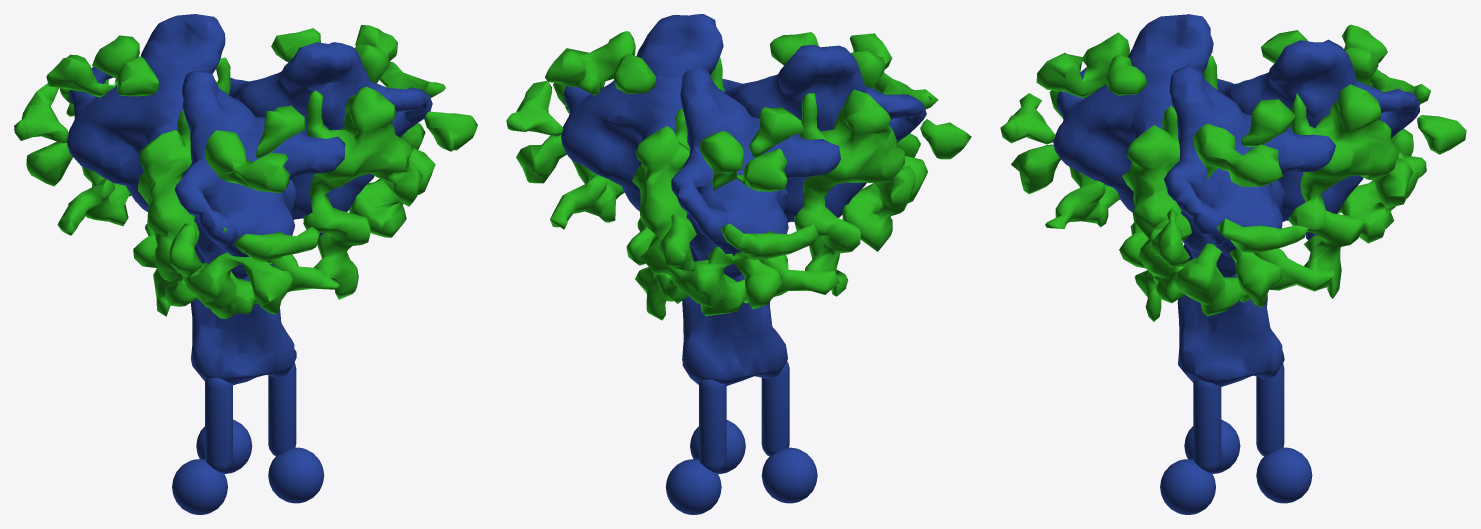
File: iSUTMorig.fbx
The picture shows the model from 3 angles, left to right: view 1: azimuth 30°, elevation 25°; view 2: azimuth 150°, elevation 25°; view 3: azimuth 270°, elevation 25°; orthographic projection.
Parts seen in each view (by area): view 1: CoarseMS_gfySugars1, CoarseMS_gfyProtOnly1, Capsule_0_1, CoarseMS_2x7rFit2ezo; view 2: CoarseMS_gfySugars1, CoarseMS_gfyProtOnly1, Capsule_0_1, CoarseMS_2x7rFit2ezo; view 3: CoarseMS_gfySugars1, CoarseMS_gfyProtOnly1, Capsule_0_1, CoarseMS_2x7rFit2ezo.
Part boxes in pixels (<box>): CoarseMS_gfySugars1: <box>14,25,477,318</box>; CoarseMS_gfyProtOnly1: <box>67,14,432,279</box>; Capsule_0_1: <box>172,362,324,514</box>; CoarseMS_2x7rFit2ezo: <box>190,179,297,385</box>; CoarseMS_gfySugars1: <box>506,31,971,320</box>; CoarseMS_gfyProtOnly1: <box>561,14,926,278</box>; Capsule_0_1: <box>665,361,817,514</box>; CoarseMS_2x7rFit2ezo: <box>682,188,787,385</box>; CoarseMS_gfySugars1: <box>1000,24,1466,321</box>; CoarseMS_gfyProtOnly1: <box>1053,14,1419,277</box>; Capsule_0_1: <box>1160,363,1312,514</box>; CoarseMS_2x7rFit2ezo: <box>1177,180,1284,386</box>.
Size of the model in its own units: 150 by 179 by 166.
